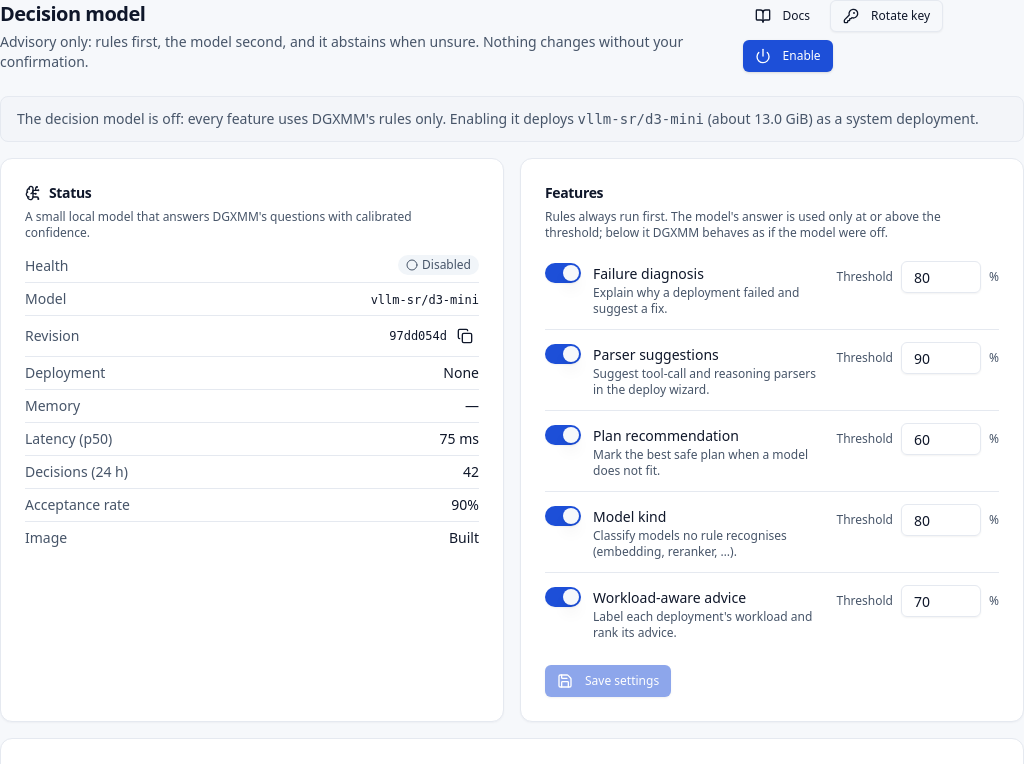
Test case: Decision model page › enables via a plan when the decider does not fit
The image size is (1024, 764).
Click the button "Enable".
click(788, 56)  # box top-left (743, 40), bottom-right (833, 72)
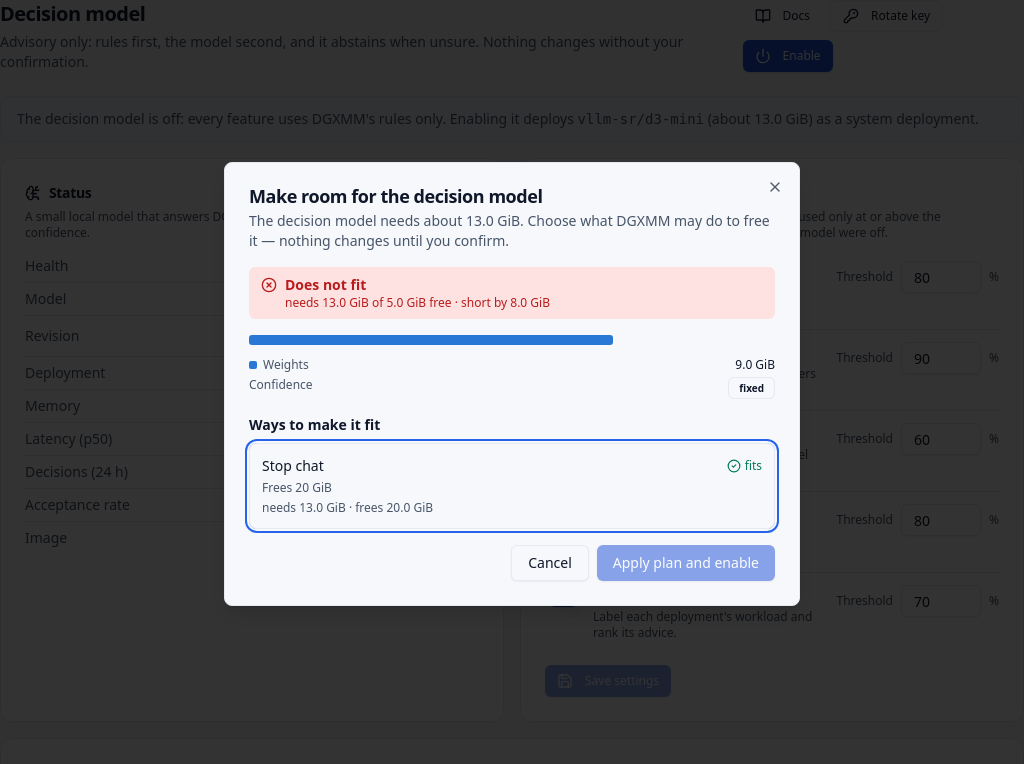
Expected: the text "Does not fit" is shown, top-left (285, 275), bottom-right (366, 294)
Expected: the number of radio buttons is 1
Click the radio button labelled "Stop chat fits Frees 20 GiB needs 13.0 GiB · frees 20.0 GiB".
click(293, 466)  # box top-left (249, 443), bottom-right (775, 529)
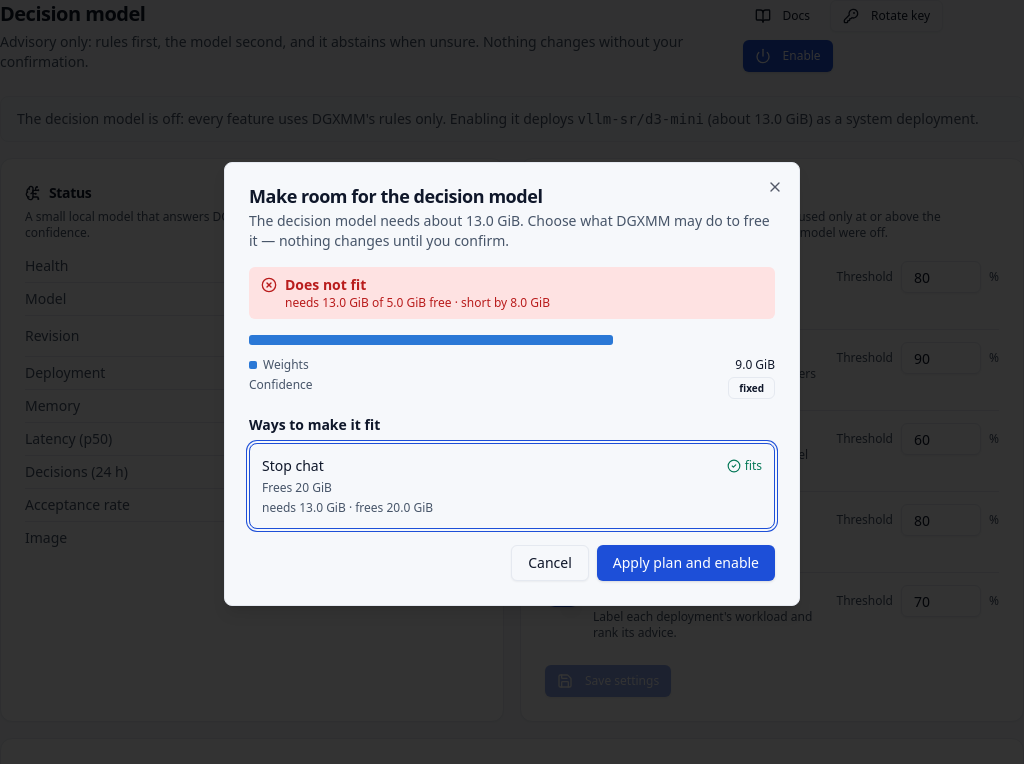
Click the button "Apply plan and enable".
click(686, 563)  # box top-left (597, 545), bottom-right (775, 581)
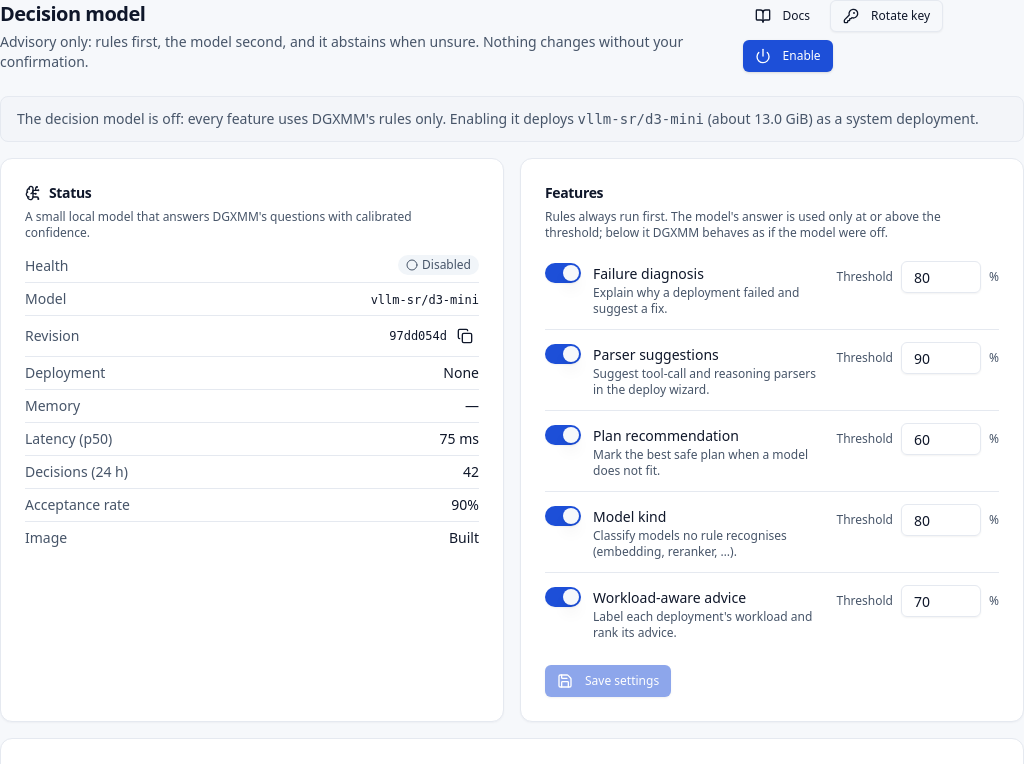
Expected: the dialog is gone
